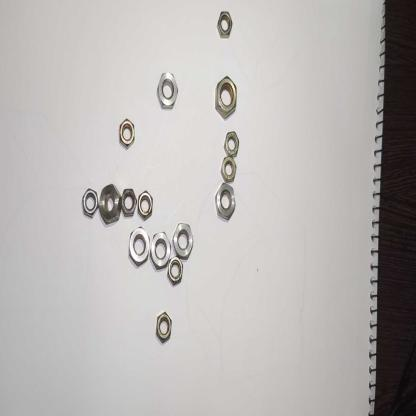NUTS: (170, 217, 197, 264), (214, 75, 239, 123), (212, 180, 240, 222), (127, 223, 150, 271), (148, 227, 171, 273), (156, 68, 180, 112), (98, 181, 122, 224), (153, 308, 176, 346), (79, 188, 103, 220), (117, 115, 138, 151), (135, 189, 155, 223), (221, 130, 242, 162), (216, 9, 236, 42), (119, 185, 138, 219), (218, 155, 240, 182), (167, 255, 185, 287)
